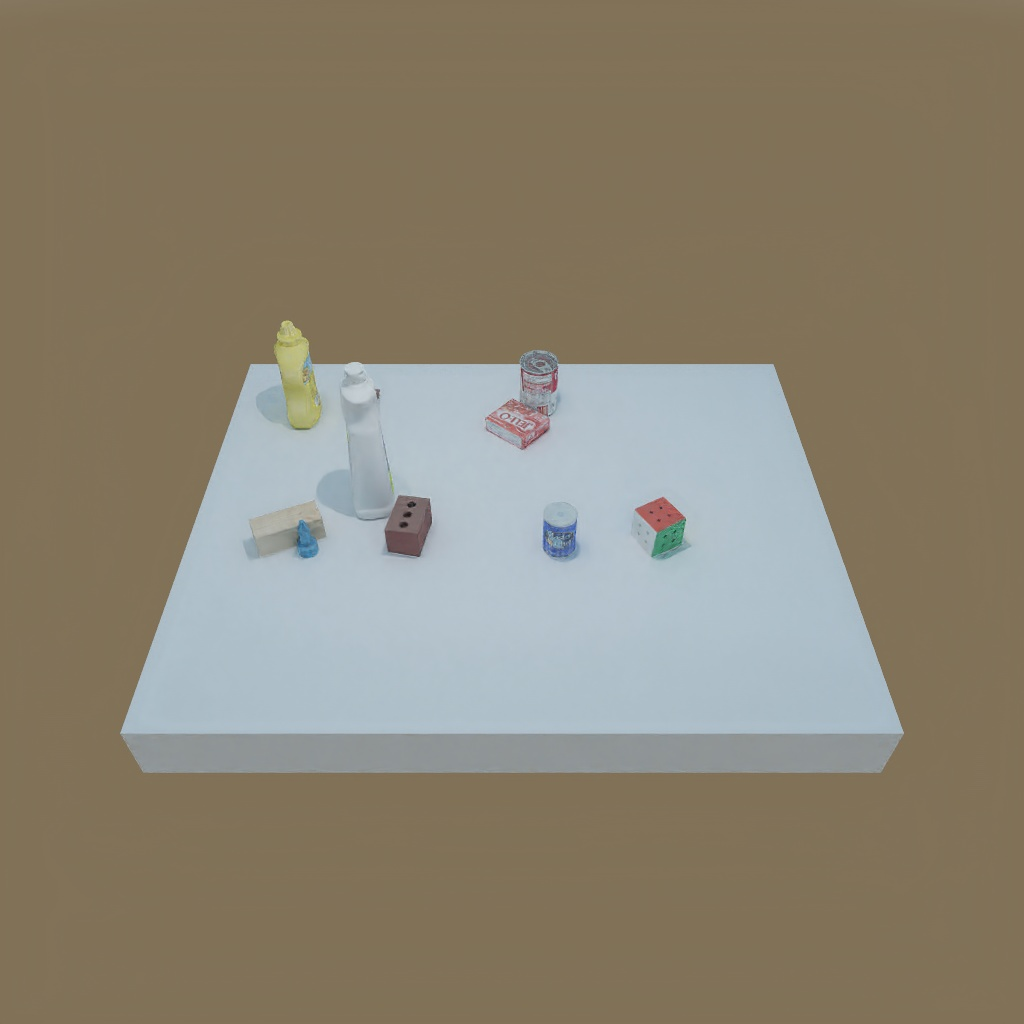gelatin_box: (484, 403, 549, 446)
master_chef_can: (535, 499, 580, 571)
mustard_bottle: (268, 320, 320, 431)
rubiks_cube: (630, 496, 686, 561)
tomato_soup_can: (515, 348, 561, 416)
wood_block: (257, 505, 326, 549)
